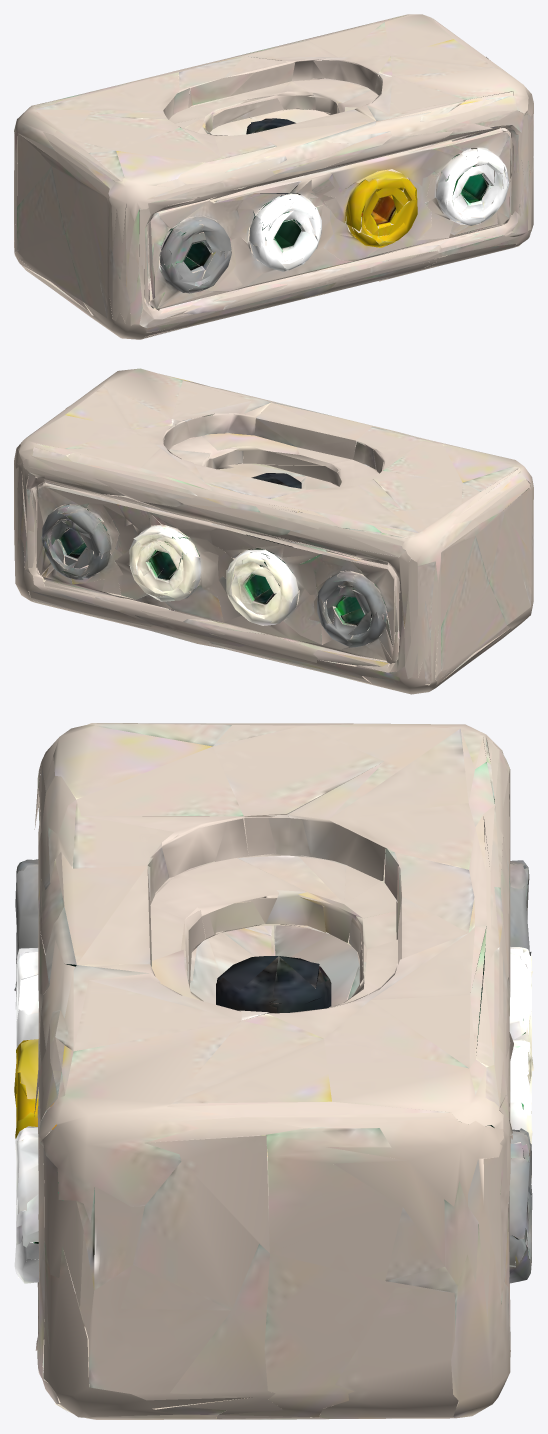
File: gas-outlet-panel.glb
3 views of the same model, one above another, from view 1: azimuth 30°, elevation 25°; view 2: azimuth 150°, elevation 25°; view 3: azimuth 270°, elevation 25° (orthographic). The views are drawn at different scales.
Parts seen in each view (by area): view 1: Mesh_0; view 2: Mesh_0; view 3: Mesh_0.
Boxes of the visible parts, bbox=[...] form: Mesh_0: bbox=[14, 14, 533, 339]; Mesh_0: bbox=[14, 368, 533, 694]; Mesh_0: bbox=[14, 723, 533, 1419].
Bounding box in the file's own units: 1.91 × 0.6861 × 1.02.
Materials: 1 (1 with a texture image).
